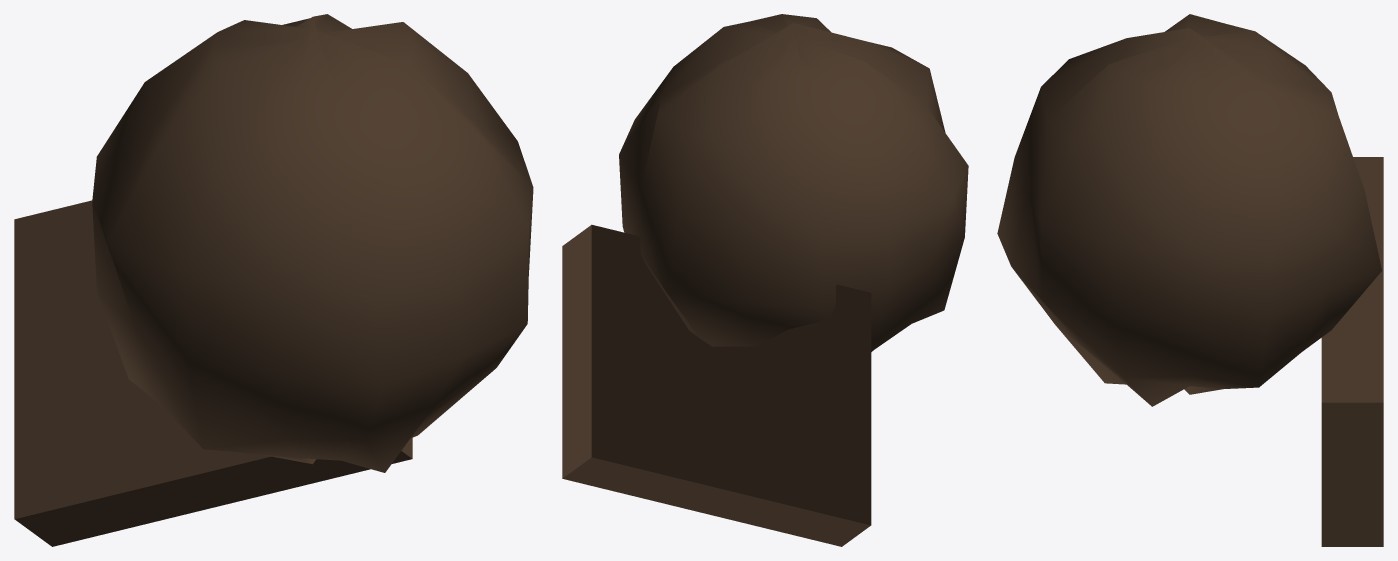
The model's file is cabelo_curto.obj.
The picture shows the model from 3 angles, left to right: view 1: azimuth 30°, elevation 25°; view 2: azimuth 150°, elevation 25°; view 3: azimuth 270°, elevation 25°; orthographic projection. The views are drawn at different scales.
Visible parts, largest first — view 1: topo, franja; view 2: topo, franja; view 3: topo, franja.
Boxes of the visible parts, left/top/right/bottom form: topo: left=92, top=14, right=533, bottom=472; franja: left=14, top=200, right=412, bottom=546; topo: left=619, top=14, right=968, bottom=351; franja: left=562, top=224, right=871, bottom=546; topo: left=997, top=14, right=1381, bottom=406; franja: left=1321, top=157, right=1383, bottom=546.
Bounding box in the file's own units: 0.5009 × 0.6361 × 0.4982.
